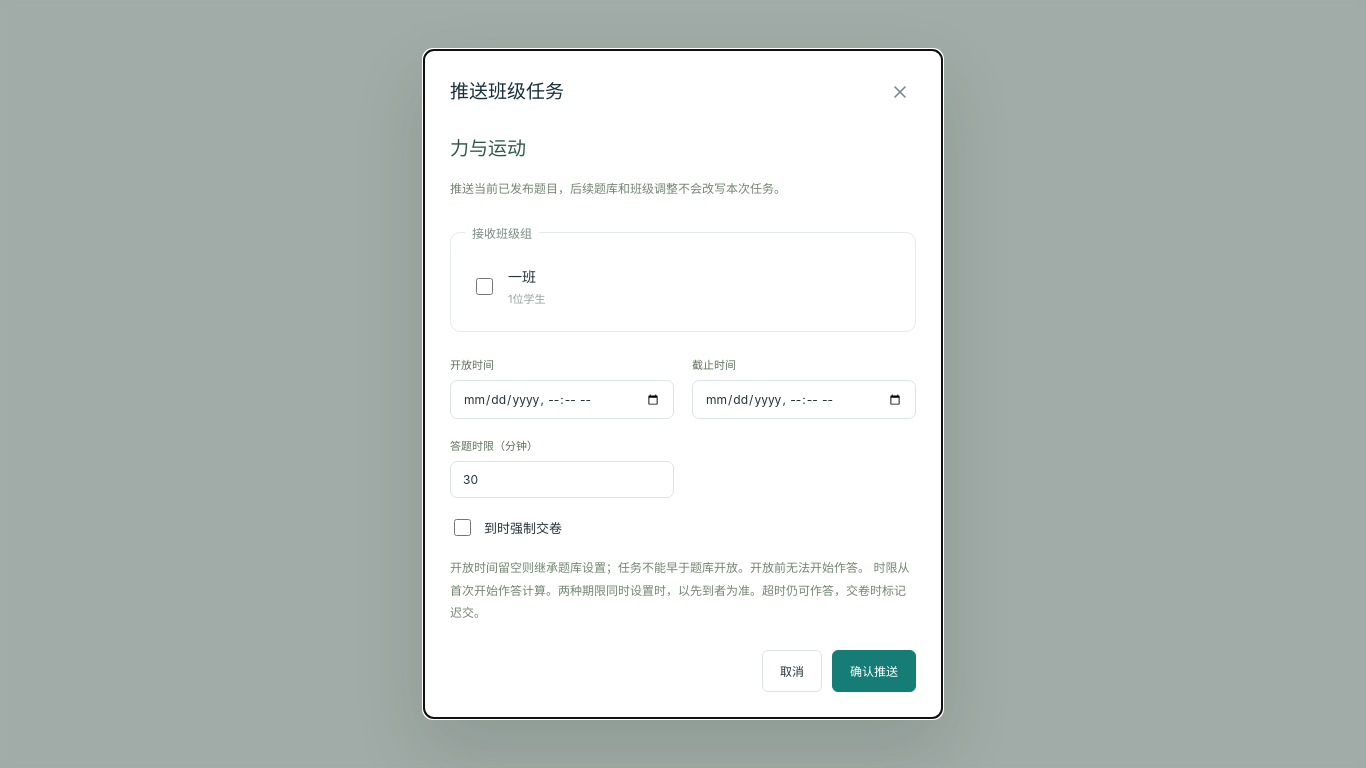
Test: 推送表单包含班级、截止、时限和强制规则
Click the checkbox labelled "一班 1位学生": (484, 286) [476,278,493,295]
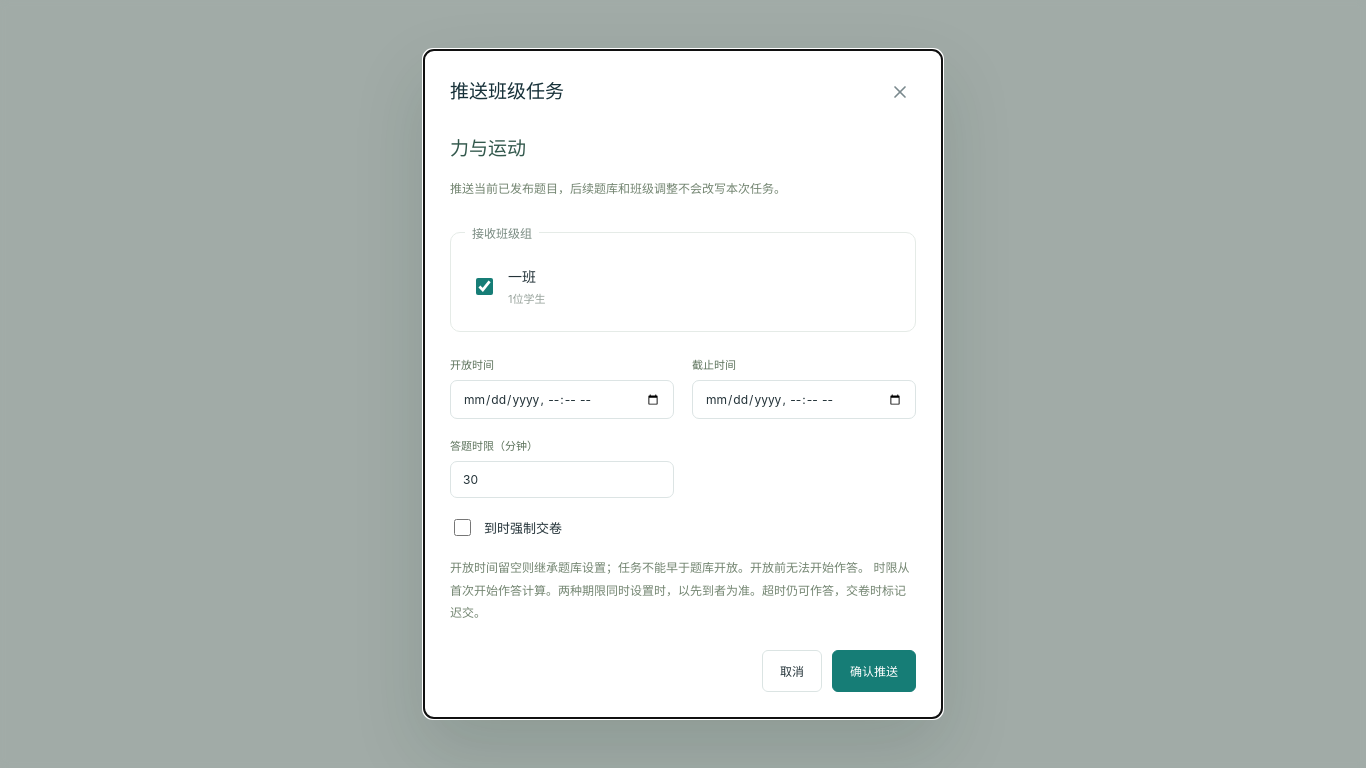
Click the checkbox labelled "到时强制交卷": (462, 528) [454,519,471,536]
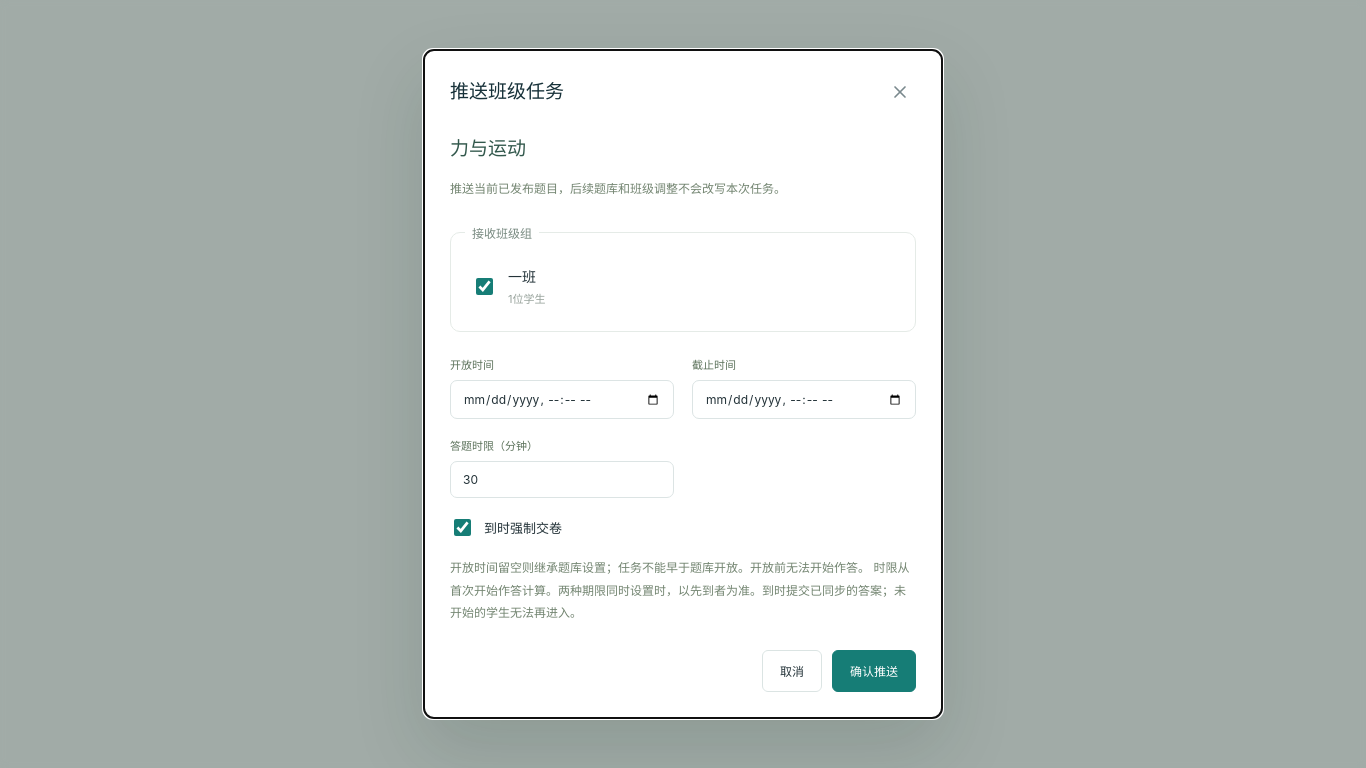
In the field labelled "截止时间": (804, 400) [692,380,916,419], type "2026-12-30T18:00"
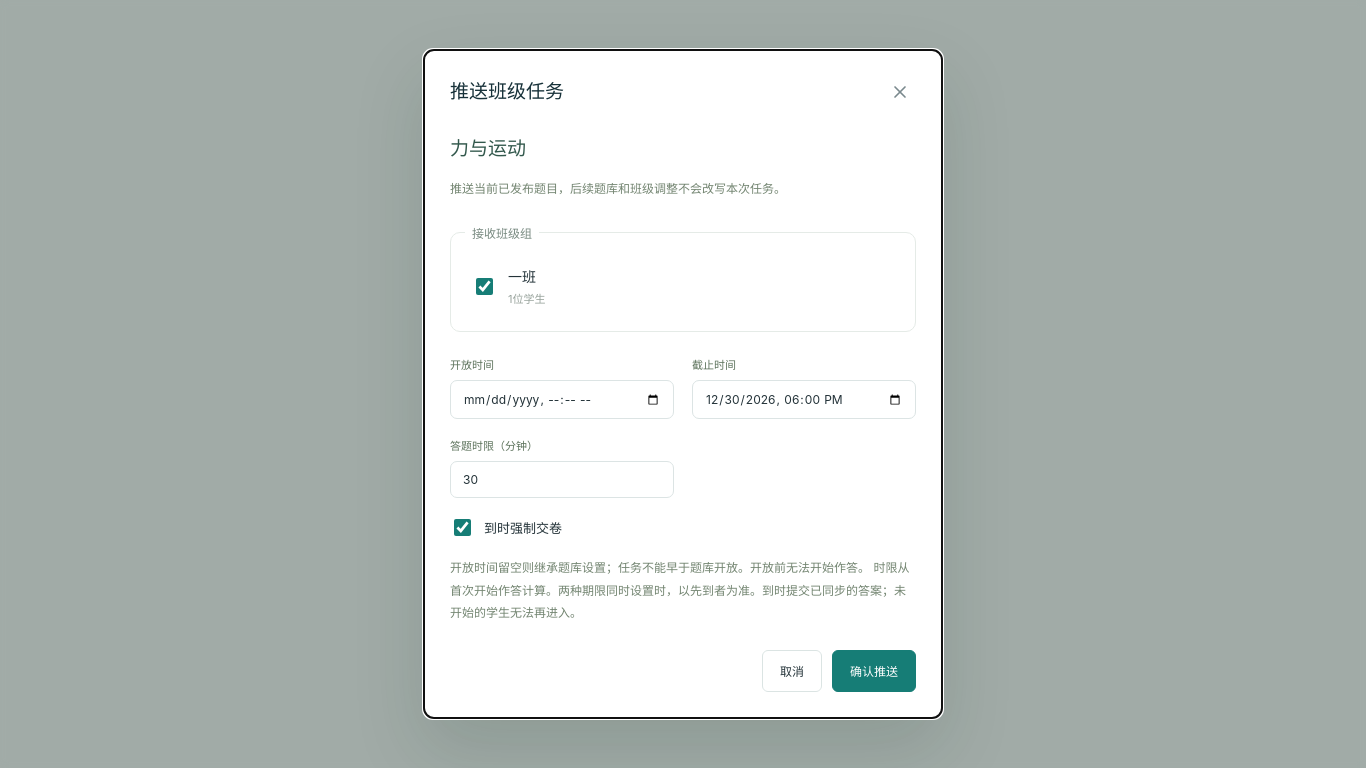
In the field labelled "开放时间": (562, 400) [450,380,674,419], type "2026-12-30T09:00"
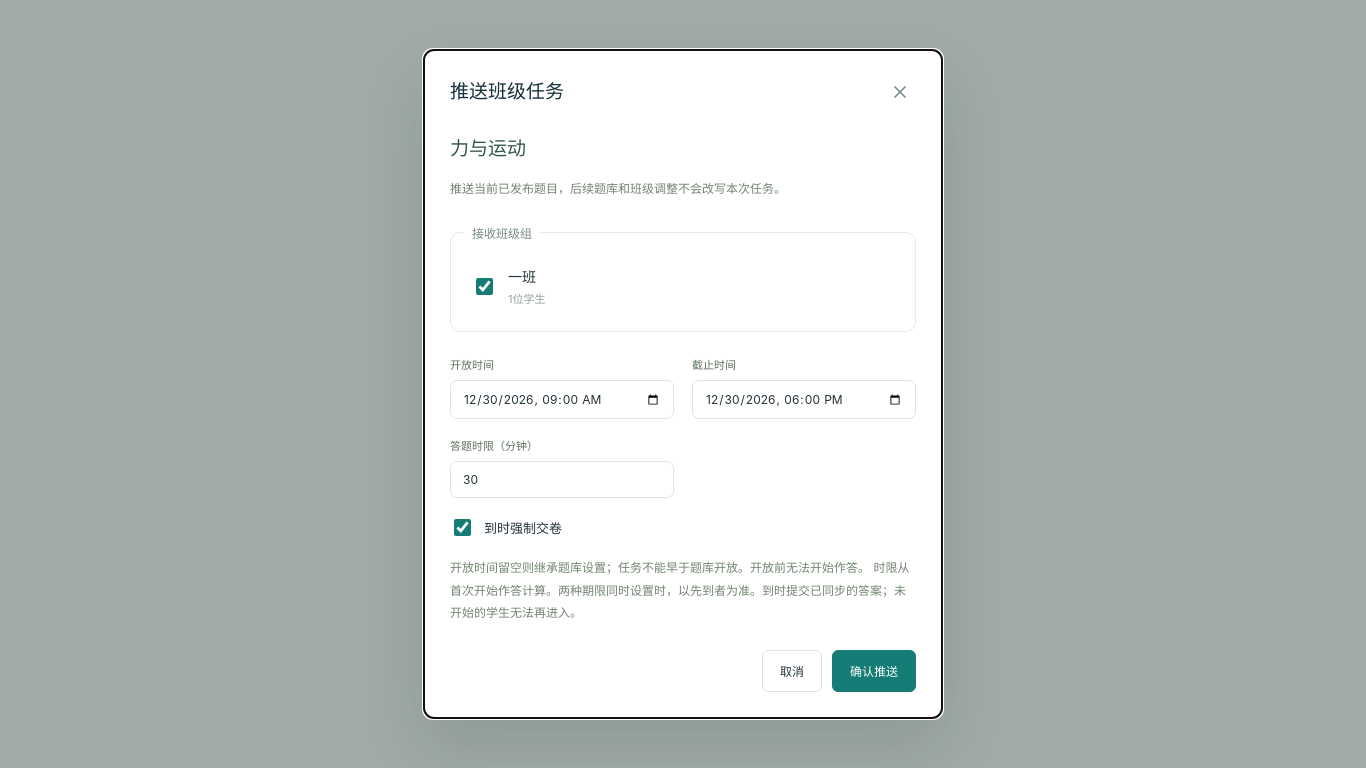
Click the button "确认推送": (874, 671) [832,650,916,692]
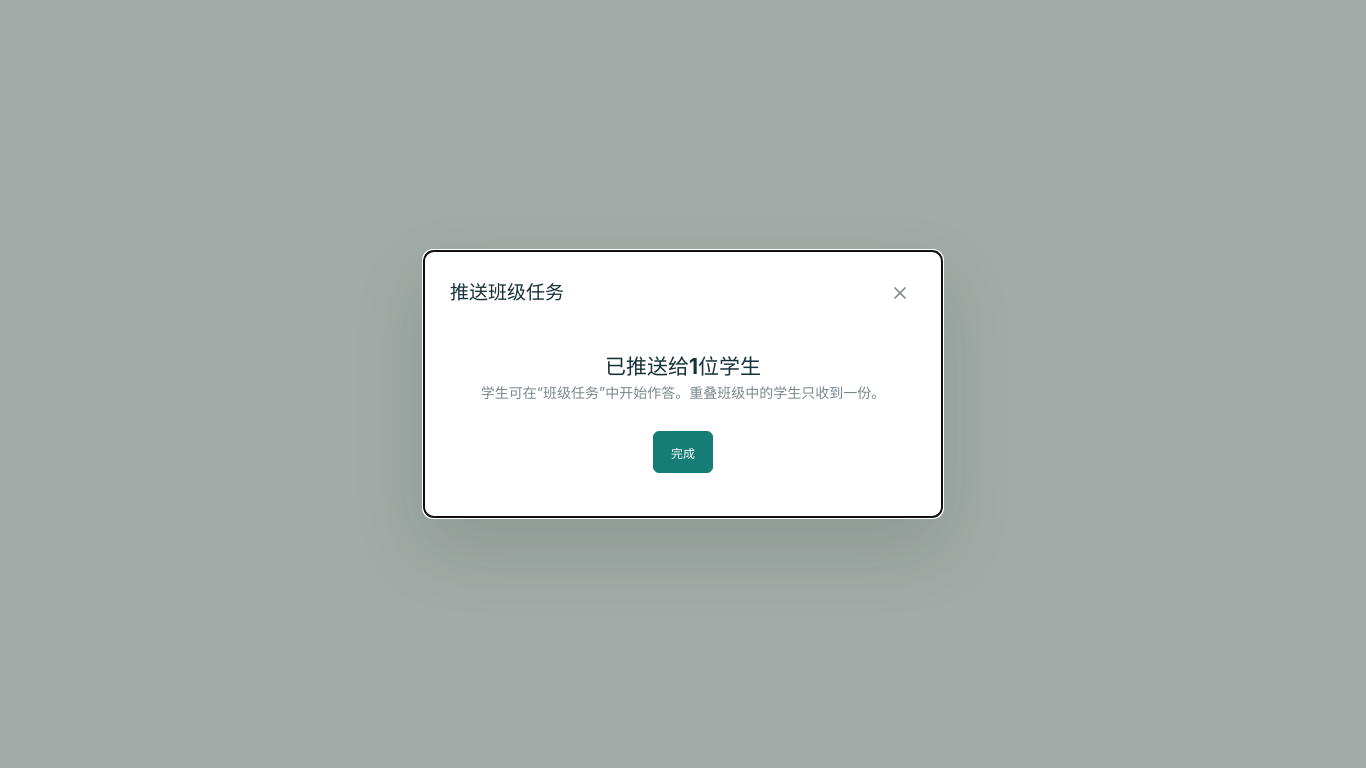
expect the heading "已推送给1位学生" is shown: met, box [605,354,761,379]
